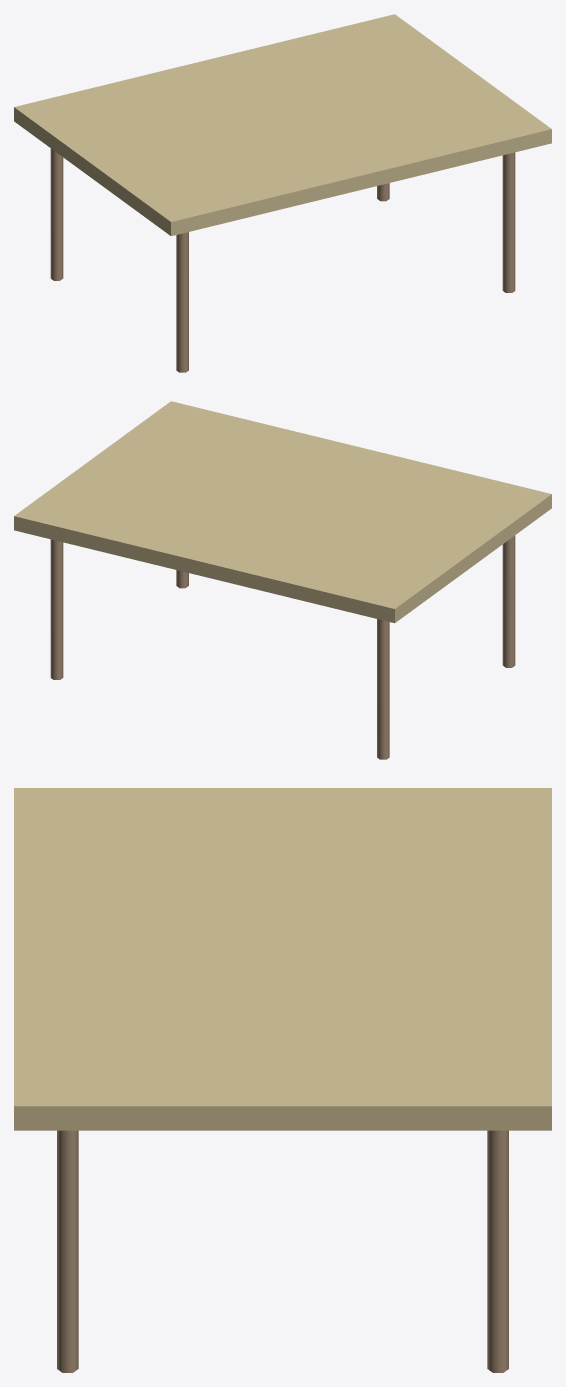
Rendered from cattle_shed.glb.
The picture shows the model from 3 angles, top to bottom: view 1: azimuth 30°, elevation 25°; view 2: azimuth 150°, elevation 25°; view 3: azimuth 270°, elevation 25°; orthographic projection. The views are drawn at different scales.
Parts seen in each view (by area): view 1: RoofShade_Node, Post_3_2_Node, Post_-3_2_Node, Post_-3_-2_Node; view 2: RoofShade_Node, Post_3_-2_Node, Post_-3_-2_Node, Post_-3_2_Node; view 3: RoofShade_Node, Post_3_-2_Node, Post_3_2_Node.
Boxes of the visible parts, bbox=[...] form: RoofShade_Node: bbox=[14, 14, 551, 236]; Post_3_2_Node: bbox=[502, 152, 515, 292]; Post_-3_2_Node: bbox=[176, 232, 188, 372]; Post_-3_-2_Node: bbox=[50, 148, 63, 280]; RoofShade_Node: bbox=[14, 401, 551, 623]; Post_3_-2_Node: bbox=[50, 539, 63, 679]; Post_-3_-2_Node: bbox=[377, 619, 389, 759]; Post_-3_2_Node: bbox=[502, 535, 515, 667]; RoofShade_Node: bbox=[14, 788, 551, 1130]; Post_3_-2_Node: bbox=[487, 1130, 508, 1372]; Post_3_2_Node: bbox=[57, 1130, 78, 1372].
Bounding box in the file's own units: 7 × 2.92 × 5.
